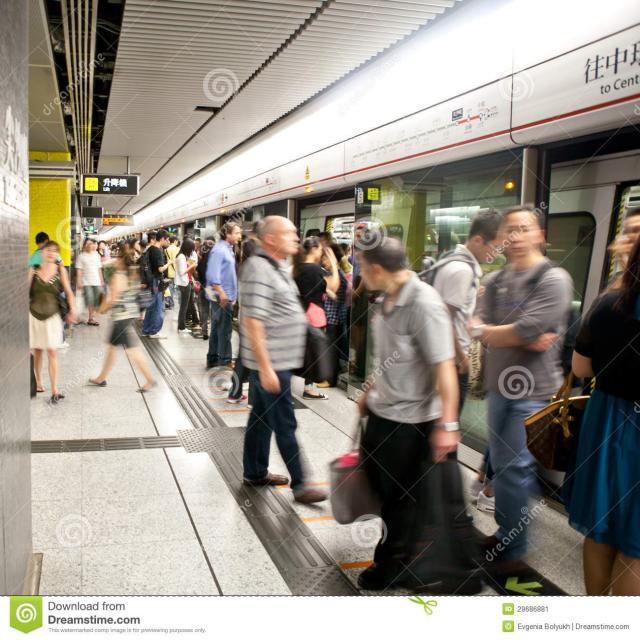body: (34, 214, 640, 486), (316, 230, 489, 614), (467, 204, 574, 579), (230, 215, 330, 504), (567, 232, 640, 595), (414, 207, 511, 462), (88, 248, 160, 393), (27, 240, 78, 401), (292, 237, 330, 401), (204, 221, 242, 372), (28, 230, 72, 348), (138, 228, 175, 340), (74, 237, 106, 327), (174, 238, 199, 334), (163, 234, 183, 309), (178, 232, 199, 284), (142, 230, 158, 253)
